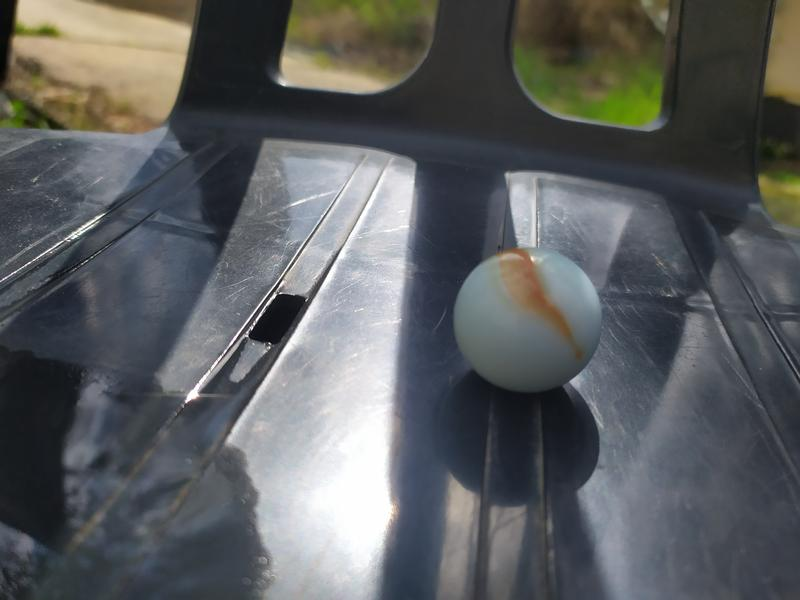Warning: (449, 243, 606, 398)
